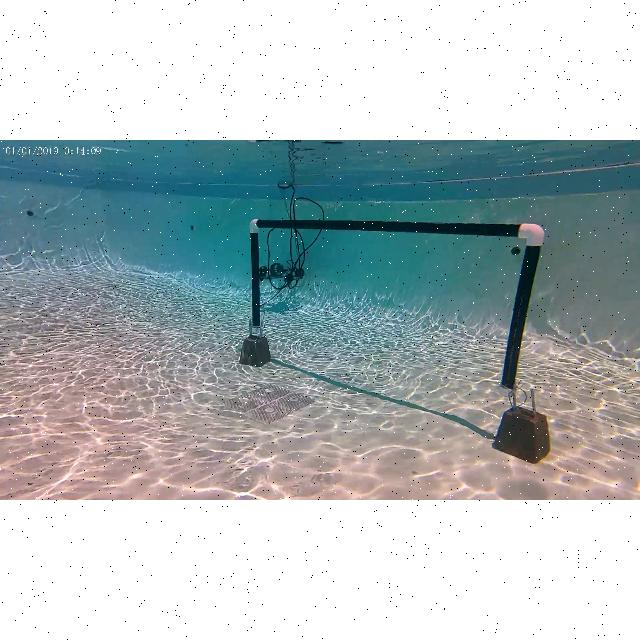prequal gate: (250, 217, 544, 396)
prequal gate leg l: (246, 214, 268, 340)
prequal gate leg r: (498, 213, 546, 395)
